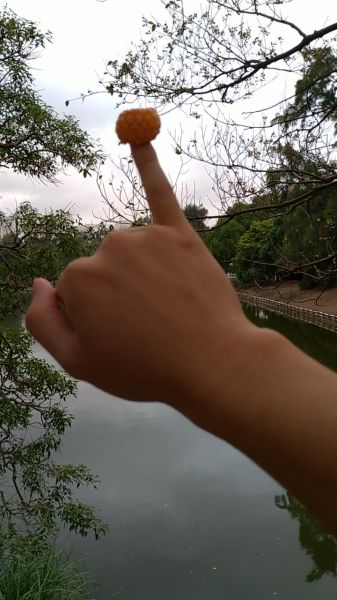eggs: (113, 108, 161, 143)
